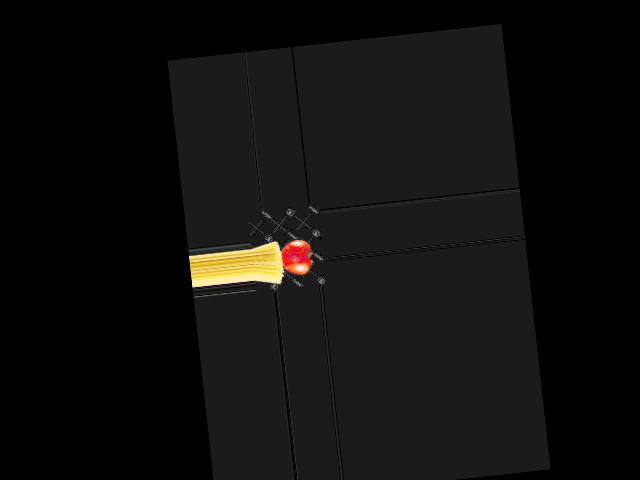tomato: (279, 239, 312, 276)
